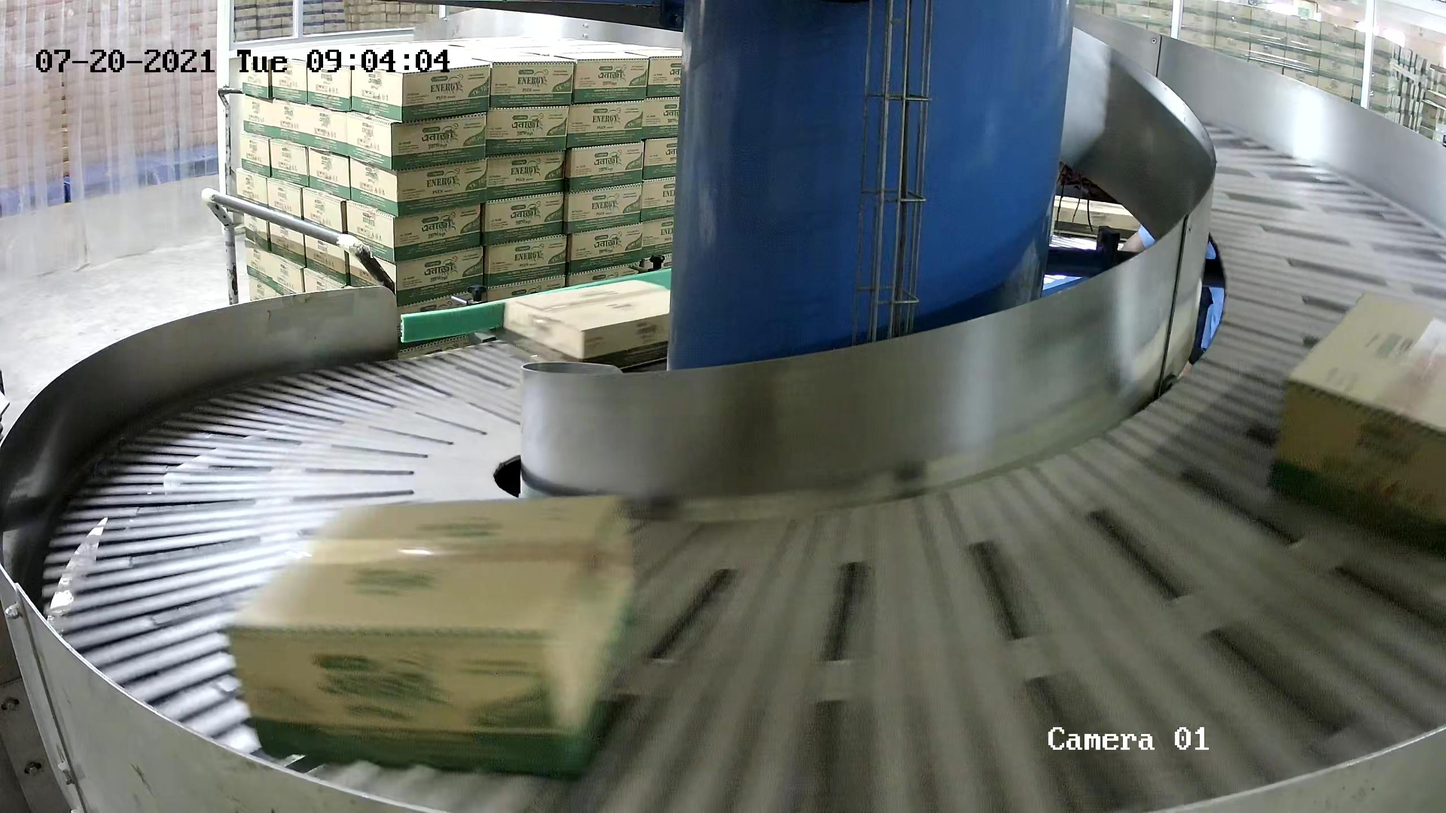Box: (217, 488, 640, 784), (1267, 287, 1446, 553), (500, 274, 672, 373)
